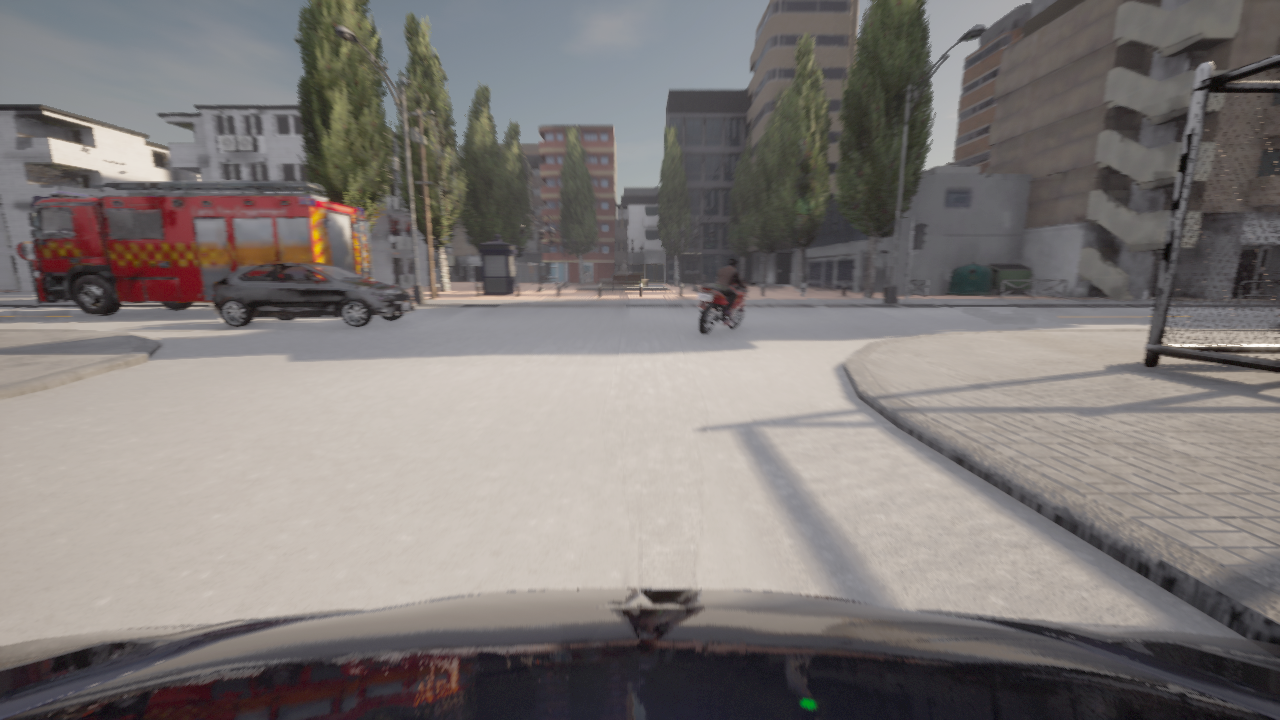cyclist: (0, 588, 1279, 719), (30, 181, 372, 314), (212, 262, 415, 327), (697, 278, 757, 334)
